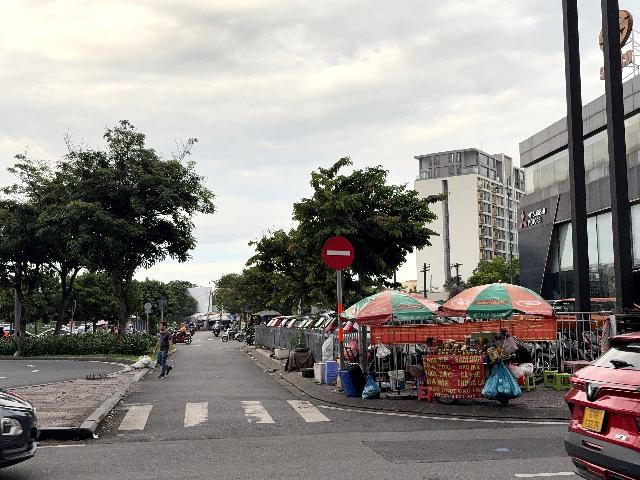cam-di-nguoc-chieu: (322, 236, 354, 269)
